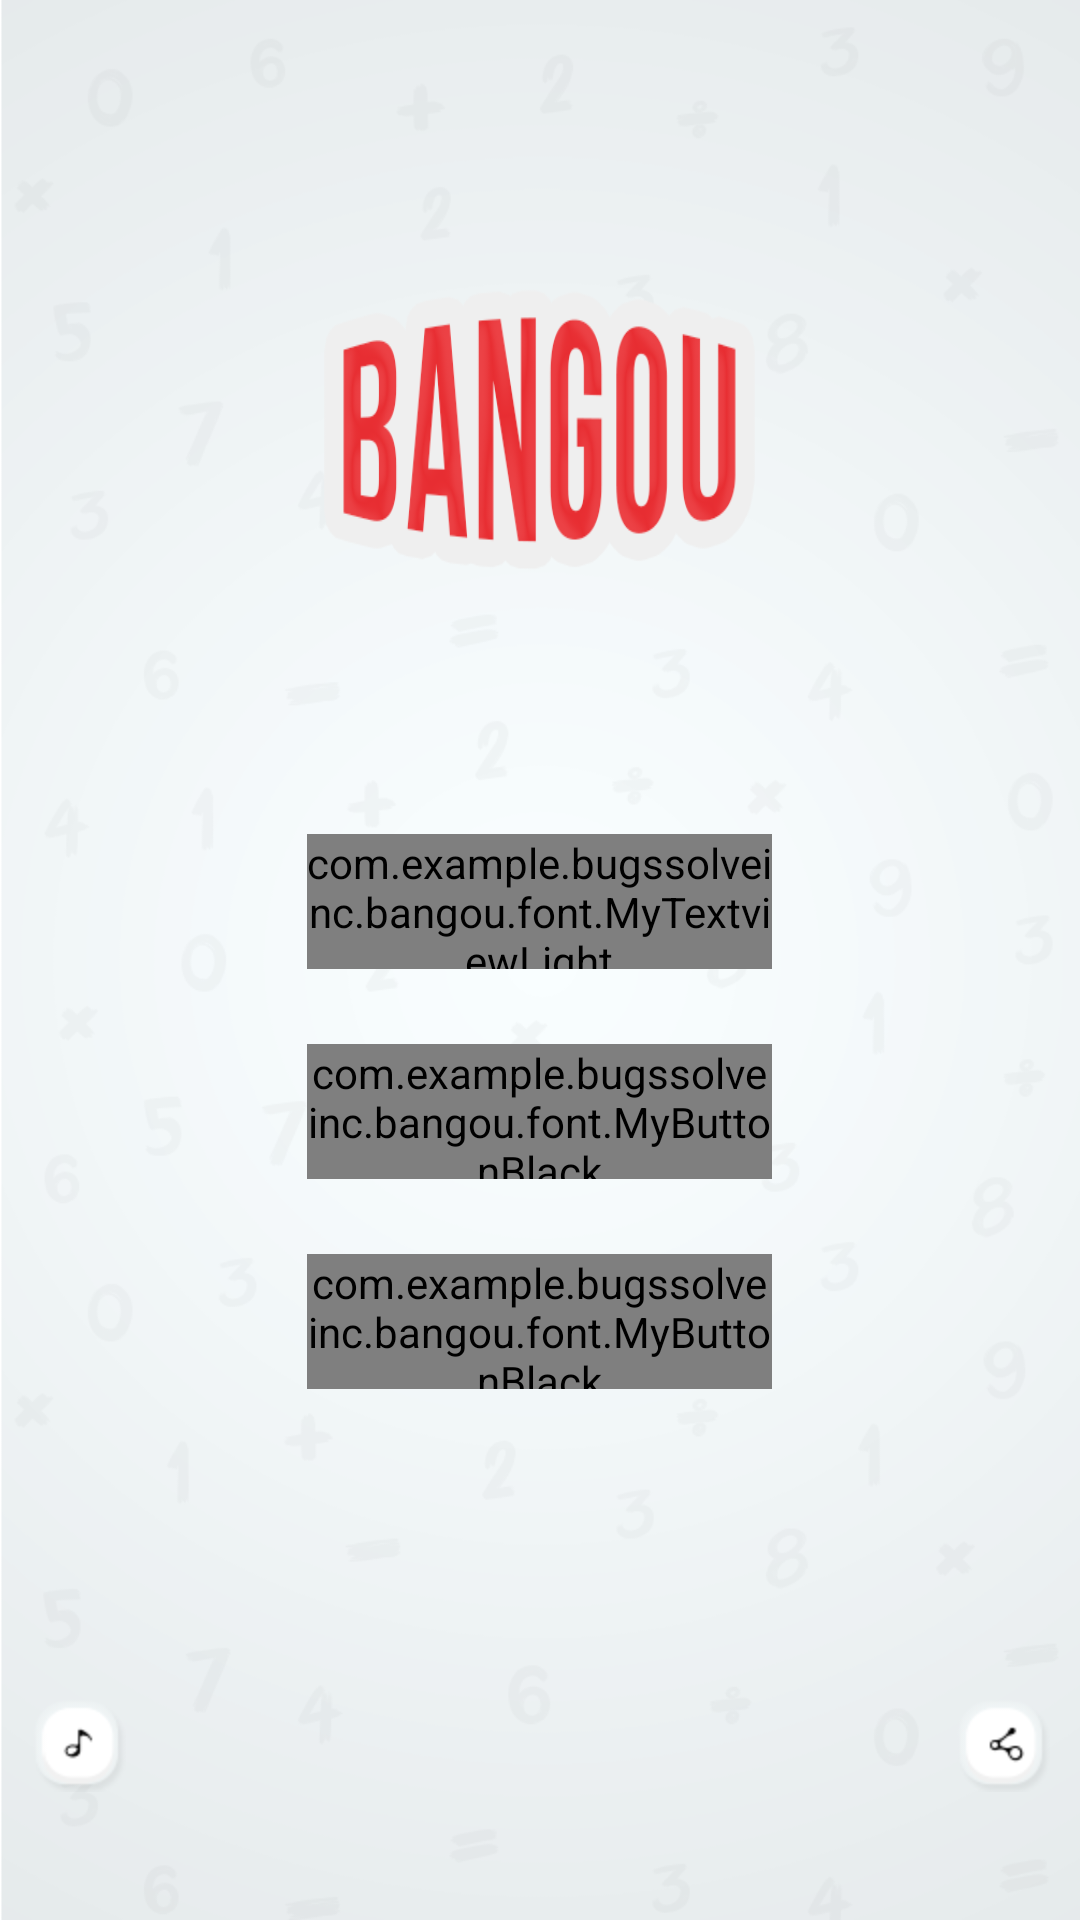

Icons on this 1080w x 1920h Android screen, each with its box as (x1, y1, x2, y2):
share: (965, 1707, 1046, 1791)
sound: (41, 1707, 121, 1792)
